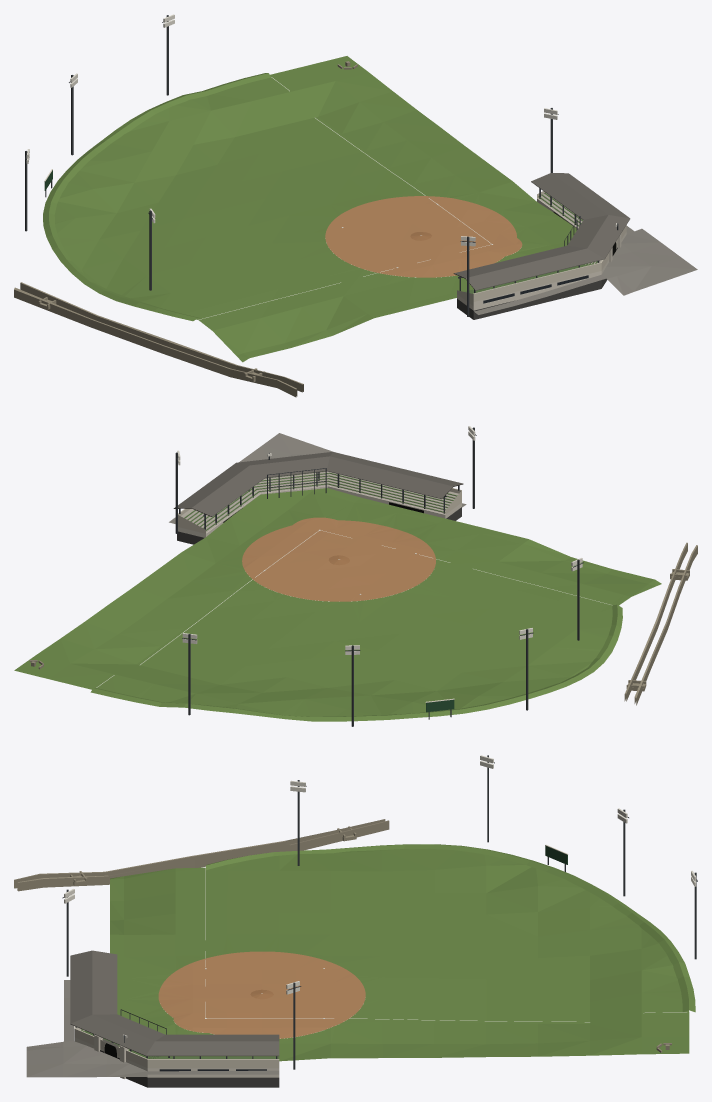
Rendered from lamar-porter-field.glb.
3 views of the same model, one above another, from view 1: azimuth 30°, elevation 25°; view 2: azimuth 150°, elevation 25°; view 3: azimuth 270°, elevation 25° (orthographic). The views are drawn at different scales.
Visible parts, largest first — view 1: lamar_grass, lamar_dirt, lamar_roof, lamar_stone, lamar_cobble, lamar_steel, lamar_wood, lamar_conc, lamar_base, lamar_bench; view 2: lamar_grass, lamar_dirt, lamar_roof, lamar_tier, lamar_steel, lamar_stone, lamar_bench, lamar_cobble, lamar_conc, lamar_lamp, lamar_wood; view 3: lamar_grass, lamar_dirt, lamar_roof, lamar_stone, lamar_cobble, lamar_wood, lamar_base, lamar_steel, lamar_conc, lamar_lamp.
Part boxes in pixels (x1,y1,x2,y2): lamar_grass: (43, 56, 576, 362); lamar_dirt: (325, 196, 522, 277); lamar_roof: (454, 173, 630, 290); lamar_stone: (14, 61, 357, 397); lamar_cobble: (474, 226, 697, 314); lamar_steel: (25, 15, 618, 316); lamar_wood: (457, 191, 626, 305); lamar_conc: (457, 198, 626, 310); lamar_base: (457, 278, 607, 319); lamar_bench: (464, 192, 597, 293); lamar_grass: (14, 488, 661, 721); lamar_dirt: (242, 517, 435, 601); lamar_roof: (174, 452, 462, 516); lamar_tier: (181, 471, 458, 533); lamar_steel: (175, 427, 583, 726); lamar_stone: (29, 542, 697, 705); lamar_bench: (184, 471, 457, 530); lamar_cobble: (169, 433, 466, 523); lamar_conc: (178, 486, 461, 537); lamar_lamp: (177, 426, 582, 654); lamar_wood: (178, 488, 461, 533); lamar_grass: (110, 844, 695, 1061); lamar_dirt: (158, 951, 365, 1038); lamar_roof: (70, 950, 279, 1056); lamar_stone: (14, 819, 671, 1052); lamar_cobble: (26, 980, 279, 1077); lamar_wood: (74, 1026, 279, 1068); lamar_base: (126, 1077, 279, 1087); lamar_steel: (62, 755, 697, 1069); lamar_conc: (74, 1034, 279, 1078); lamar_lamp: (64, 755, 696, 1038).
Size of the model in its own units: 150 by 30.36 by 159.
